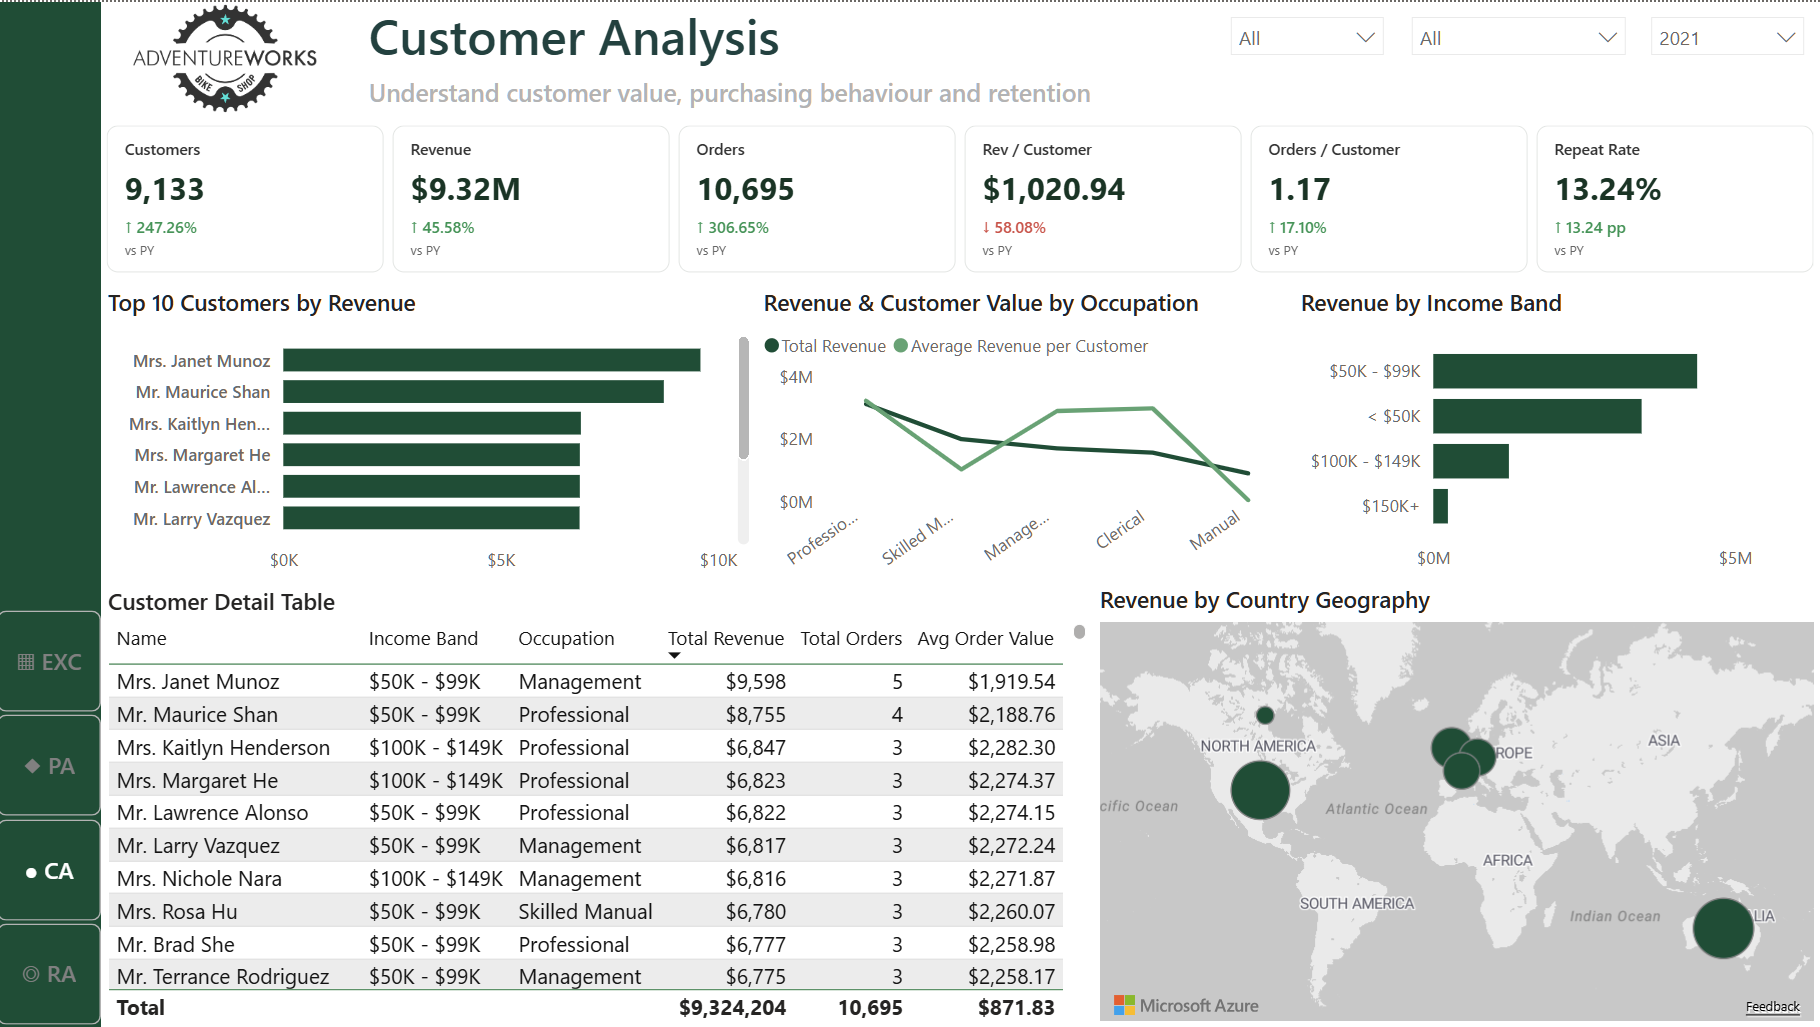

The dashboard page shown, as its layout file describes it:
{"tool":"powerbi","page":{"name":"● CA","canvas":[1280,720],"ordinal":2},"visuals":[{"type":"textbox","title":"Customer Analysis","box":[256.2,0,552.9,78.6],"z":0},{"type":"htmlContent443BE3AD55E043BF878BED274D3A6855","fields":{"content":["Measure Table.KPI Cards Customer"]},"box":[71.7,81.1,1208.6,117.6],"z":1000},{"type":"slicer","fields":{"Values":["Calendar Lookup.Year"]},"box":[1151.4,0,127,42.3],"z":2000},{"type":"slicer","fields":{"Values":["Territory Lookup.Region"]},"box":[855.7,0,127,42.3],"z":3000},{"type":"slicer","fields":{"Values":["Product Categories Lookup.CategoryName"]},"box":[983,0,170,42.5],"z":4000},{"type":"shape","box":[0,0,72.9,720],"z":5000},{"type":"clusteredBarChart","title":"Top 10 Customers by Revenue","fields":{"Category":["Customer Lookup.Full Name"],"Y":["Measure Table.Total Revenue"]},"box":[72.9,198.6,460,210],"z":6000},{"type":"clusteredBarChart","title":"Revenue by Income Band","fields":{"Category":["Customer Lookup.Income Band"],"Y":["Measure Table.Total Revenue"]},"box":[910,198.7,369.2,209.3],"z":7000},{"type":"lineChart","title":"Revenue & Customer Value by Occupation","fields":{"Category":["Customer Lookup.Occupation"],"Y":["Measure Table.Total Revenue"],"Y2":["Measure Table.Average Revenue per Customer"]},"box":[532.6,198.7,377.4,209.3],"z":8000},{"type":"azureMap","title":"Revenue by Country Geography","fields":{"Category":["Territory Lookup.Country"],"Size":["Measure Table.Total Revenue"]},"box":[768.9,408,511.4,311.6],"z":9000},{"type":"tableEx","title":"Customer Detail Table","fields":{"Values":["Customer Lookup.Customer Full Name (CC)","Customer Lookup.Income Band","Customer Lookup.Occupation","Measure Table.Total Revenue","Measure Table.Total Orders","Measure Table.Average Order Value"]},"box":[72.9,408.6,695.7,311.4],"z":10000},{"type":"pageNavigator","box":[0,427.1,72.9,292.9],"z":11000},{"type":"image","box":[74.6,0,171.6,79.1],"z":11001}]}

Visuals, with their boxes on the page's 1280x720 design canvas (x1, y1, x2, y2). These are canvas units, not pixel positions in the 1820x1027 screenshot, which may show the page scaled, cropped or inside an application window:
"Customer Analysis" textbox: {"x1": 256, "y1": 0, "x2": 809, "y2": 79}
htmlContent443BE3AD55E043BF878BED274D3A6855 - Measure Table.KPI Cards Customer: {"x1": 72, "y1": 81, "x2": 1280, "y2": 199}
slicer - Calendar Lookup.Year: {"x1": 1151, "y1": 0, "x2": 1278, "y2": 42}
slicer - Territory Lookup.Region: {"x1": 856, "y1": 0, "x2": 983, "y2": 42}
slicer - Product Categories Lookup.CategoryName: {"x1": 983, "y1": 0, "x2": 1153, "y2": 42}
shape: {"x1": 0, "y1": 0, "x2": 73, "y2": 720}
"Top 10 Customers by Revenue" clusteredBarChart: {"x1": 73, "y1": 199, "x2": 533, "y2": 409}
"Revenue by Income Band" clusteredBarChart: {"x1": 910, "y1": 199, "x2": 1279, "y2": 408}
"Revenue & Customer Value by Occupation" lineChart: {"x1": 533, "y1": 199, "x2": 910, "y2": 408}
"Revenue by Country Geography" azureMap: {"x1": 769, "y1": 408, "x2": 1280, "y2": 720}
"Customer Detail Table" tableEx: {"x1": 73, "y1": 409, "x2": 769, "y2": 720}
pageNavigator: {"x1": 0, "y1": 427, "x2": 73, "y2": 720}
image: {"x1": 75, "y1": 0, "x2": 246, "y2": 79}
